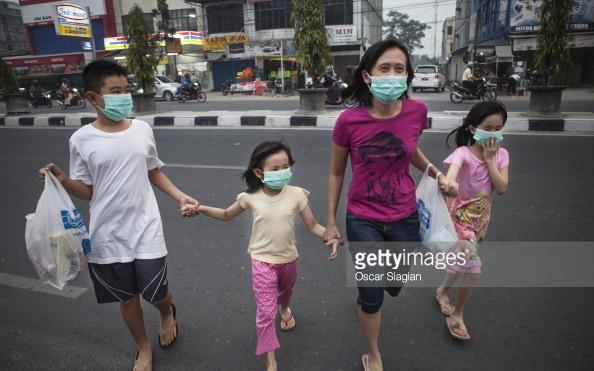OK: (371, 62, 412, 104), (99, 85, 134, 123), (262, 158, 293, 192), (475, 116, 507, 147)
